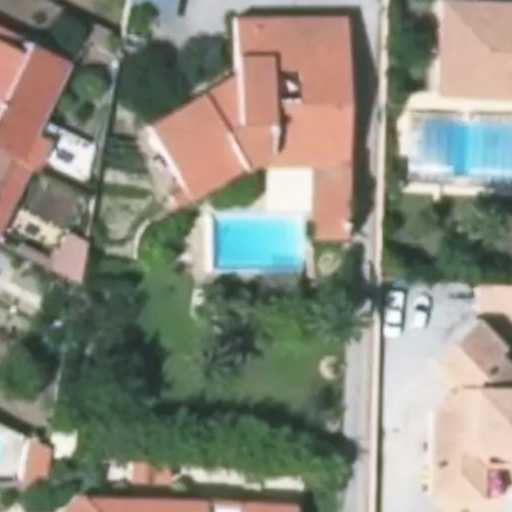pool: (209, 215, 302, 269)
